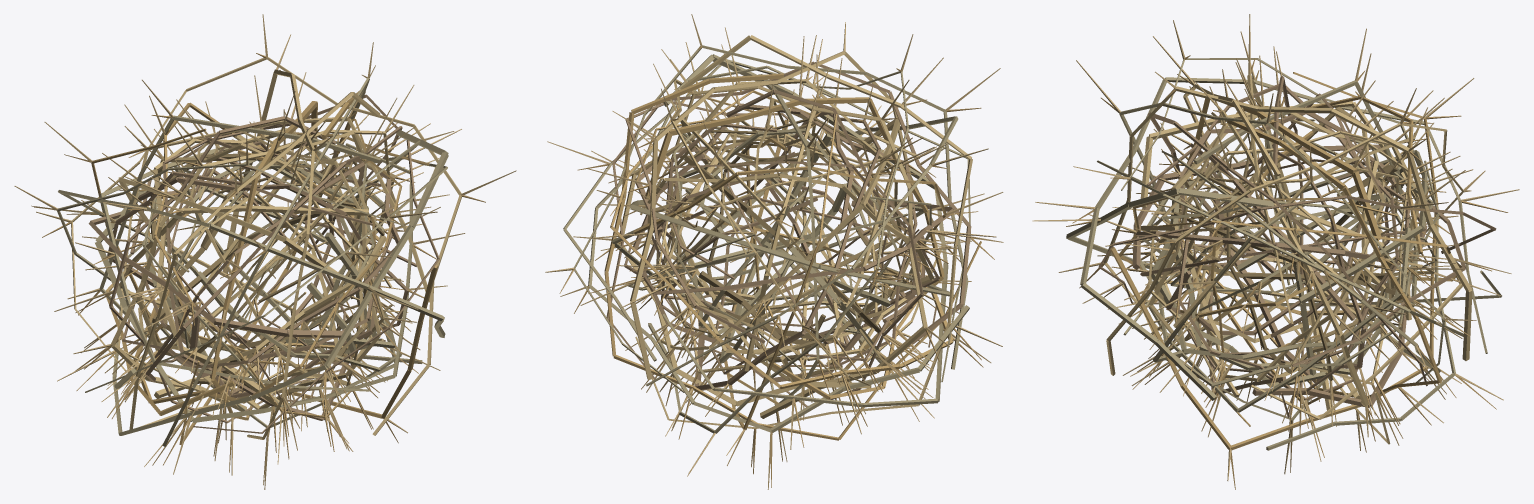
File: 风滚草.glb
3 views of the same model, side by side, from view 1: azimuth 30°, elevation 25°; view 2: azimuth 150°, elevation 25°; view 3: azimuth 270°, elevation 25° (orthographic). The views are drawn at different scales.
Parts seen in each view (by area): view 1: Dry branches; view 2: Dry branches; view 3: Dry branches.
Boxes of the visible parts, left/top/right/bottom form: Dry branches: left=14, top=14, right=516, bottom=489; Dry branches: left=545, top=14, right=1003, bottom=489; Dry branches: left=1032, top=14, right=1519, bottom=489.
Size of the model in its own units: 1.42 by 1.42 by 1.45.
